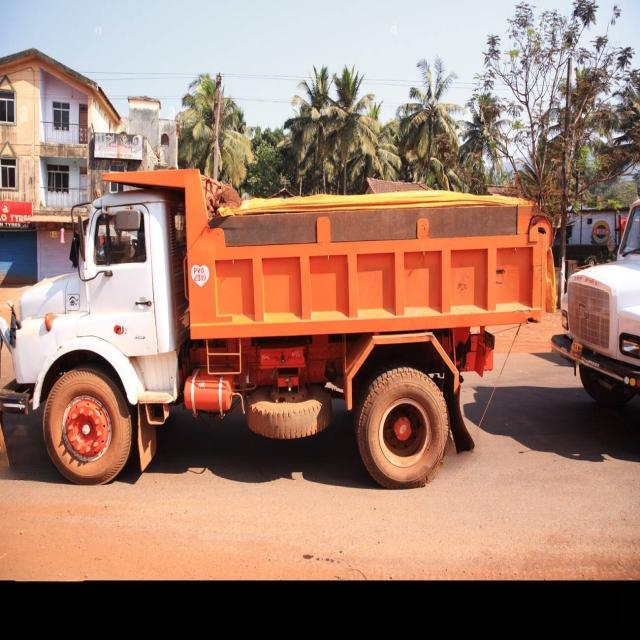truck: (0, 170, 555, 488)
